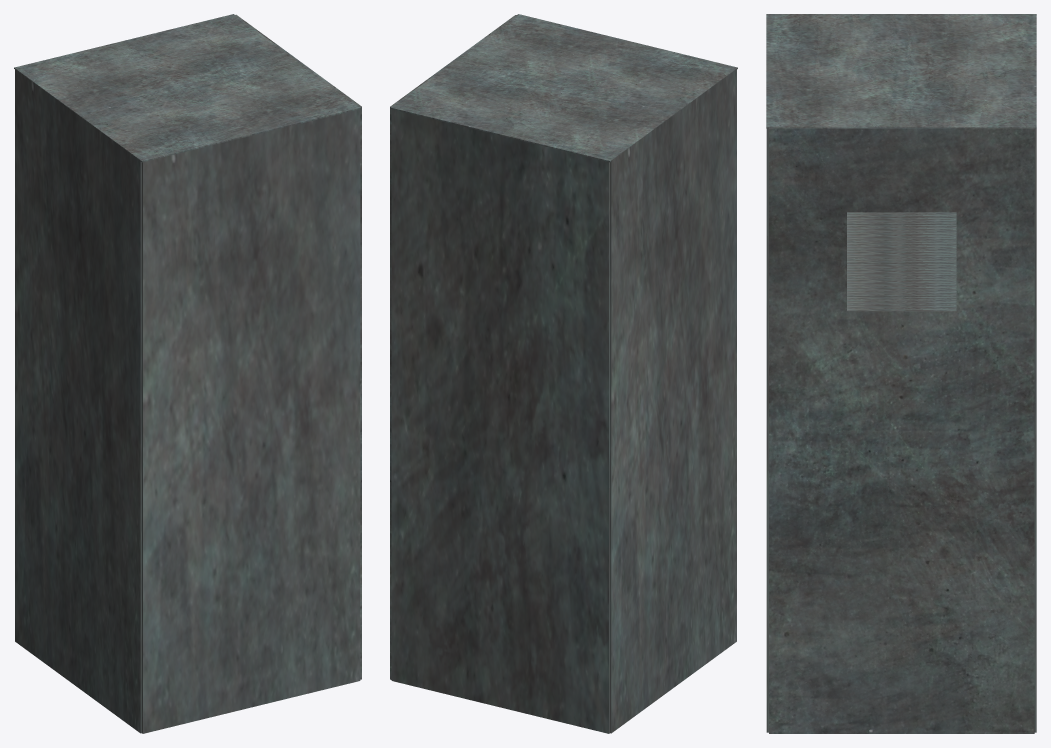
Rendered from SewerLocker.fbx.
3 views of the same model, side by side, from view 1: azimuth 30°, elevation 25°; view 2: azimuth 150°, elevation 25°; view 3: azimuth 270°, elevation 25° (orthographic). The views are drawn at different scales.
Visible parts, largest first — view 1: Cube.001, Cube, Plane.001, Cube.003; view 2: Cube.002, Cube, Plane.001, Cube.003; view 3: Cube.003, Plane.001, Cube.001, Cube.002.
Part boxes in pixels (bbox=[...]): Cube.001: bbox=[141, 109, 360, 733]; Cube: bbox=[15, 69, 141, 733]; Plane.001: bbox=[14, 14, 361, 162]; Cube.003: bbox=[235, 14, 361, 679]; Cube.002: bbox=[391, 109, 609, 733]; Cube: bbox=[610, 69, 736, 733]; Plane.001: bbox=[390, 14, 737, 162]; Cube.003: bbox=[390, 15, 516, 679]; Cube.003: bbox=[769, 127, 1034, 733]; Plane.001: bbox=[766, 14, 1036, 128]; Cube.001: bbox=[766, 128, 768, 732]; Cube.002: bbox=[1034, 128, 1036, 732].
Bounding box in the file's own units: 494 × 1222 × 494.
